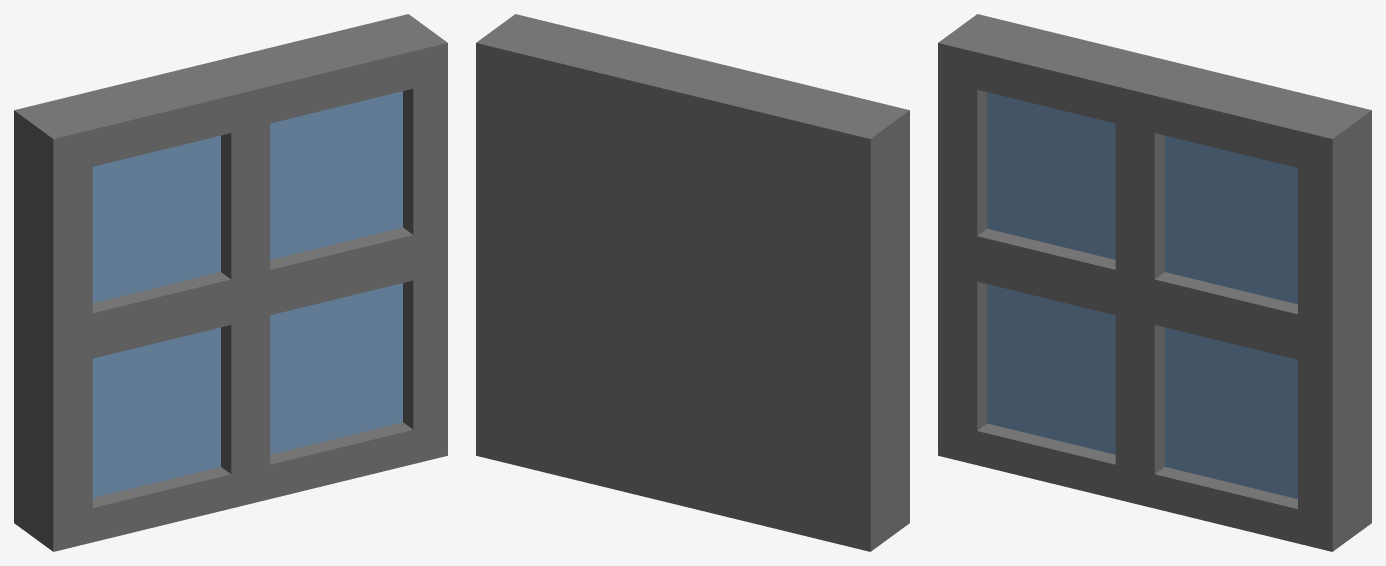
File: Окно.obj
The picture shows the model from 3 angles, left to right: view 1: azimuth 30°, elevation 25°; view 2: azimuth 150°, elevation 25°; view 3: azimuth 330°, elevation 25°; orthographic projection.
Parts seen in each view (by area): view 1: Cube; view 2: Cube; view 3: Cube.
Part boxes in pixels (x1,y1,x2,y2): Cube: (14,14,447,551); Cube: (476,14,909,551); Cube: (938,14,1371,551).
Size of the model in its own units: 0.5 by 0.5 by 0.0866.
